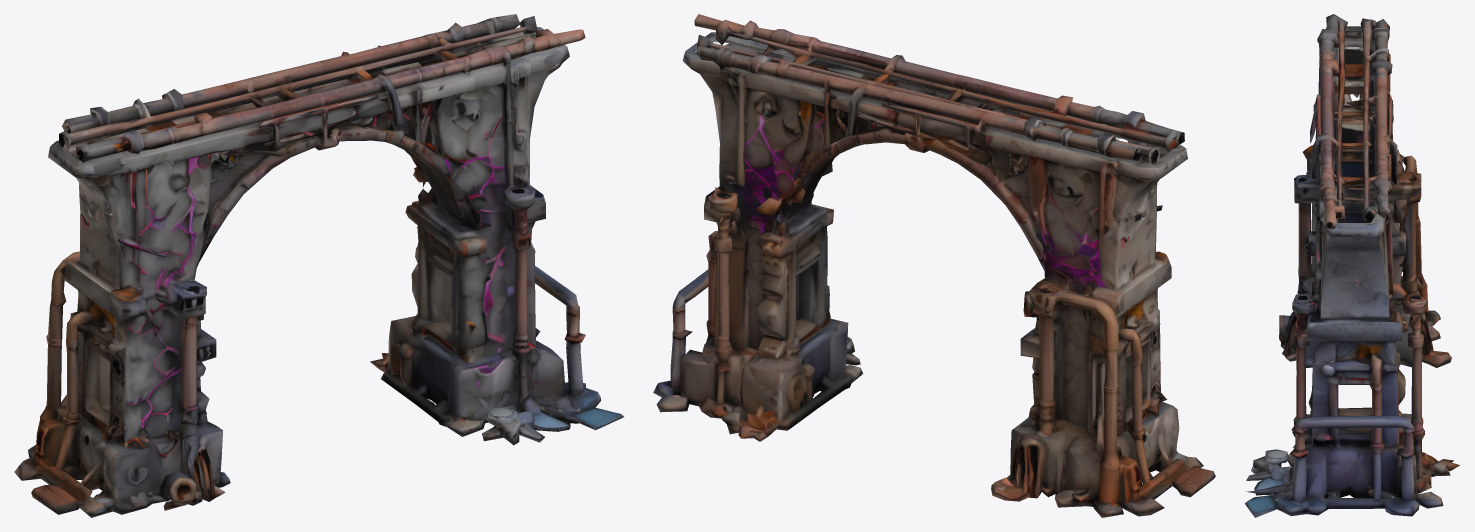
Rendered from Arch.obj.
3 views of the same model, side by side, from view 1: azimuth 30°, elevation 25°; view 2: azimuth 150°, elevation 25°; view 3: azimuth 270°, elevation 25° (orthographic). The views are drawn at different scales.
Parts seen in each view (by area): view 1: tripo_node_a3ed8e23-ebc5-4586-ba89-02a689723210; view 2: tripo_node_a3ed8e23-ebc5-4586-ba89-02a689723210; view 3: tripo_node_a3ed8e23-ebc5-4586-ba89-02a689723210.
Boxes of the visible parts, x1,y1,x2,y2 form: tripo_node_a3ed8e23-ebc5-4586-ba89-02a689723210: [14, 14, 623, 517]; tripo_node_a3ed8e23-ebc5-4586-ba89-02a689723210: [653, 14, 1215, 517]; tripo_node_a3ed8e23-ebc5-4586-ba89-02a689723210: [1244, 14, 1459, 517].
Size of the model in its own units: 1 by 0.6525 by 0.4202.
1 material, 1 textured.
